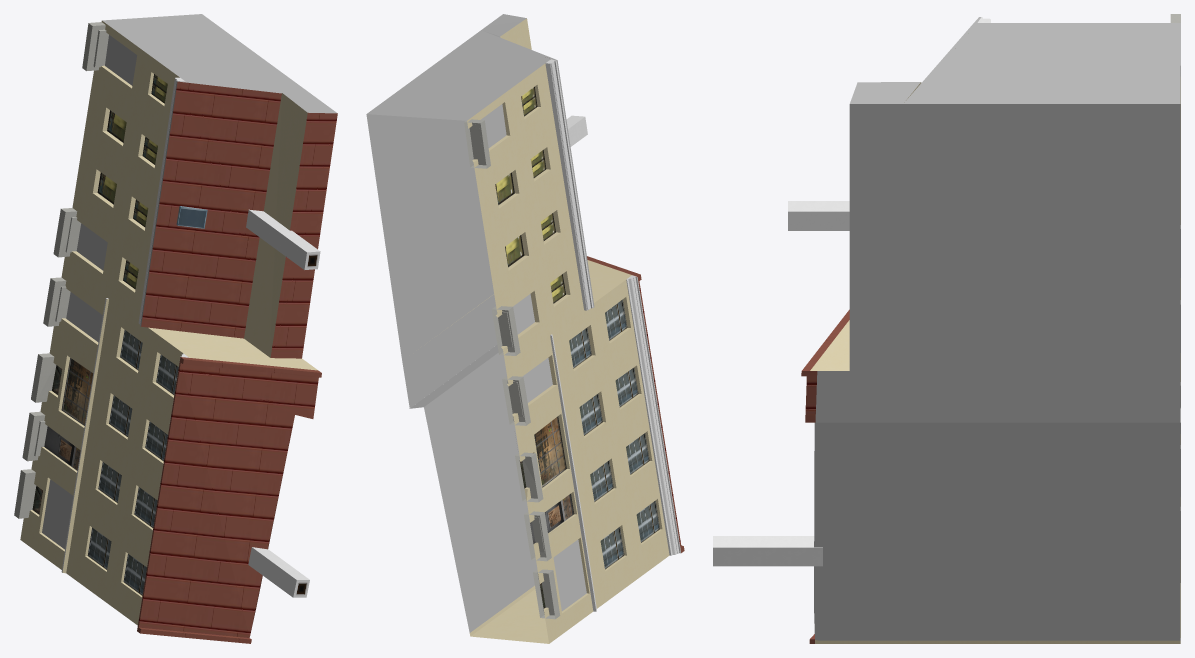
The model's file is Myyrivahe_36.obj.
3 renders of one model, left to right at view 1: azimuth 30°, elevation 25°; view 2: azimuth 150°, elevation 25°; view 3: azimuth 270°, elevation 25°, orthographic. The views are drawn at different scales.
Visible parts, largest first — view 1: myyrivahe36, xxx; view 2: myyrivahe36, xxx; view 3: xxx, myyrivahe36.
Part boxes in pixels (x1,y1,x2,y2): myyrivahe36: (14,21,337,643); xxx: (102,14,337,113); myyrivahe36: (451,18,684,643); xxx: (366,14,550,632); xxx: (814,23,1180,640); myyrivahe36: (713,14,1180,643).
Bounding box in the file's own units: 8.92 × 23.14 × 15.71.
